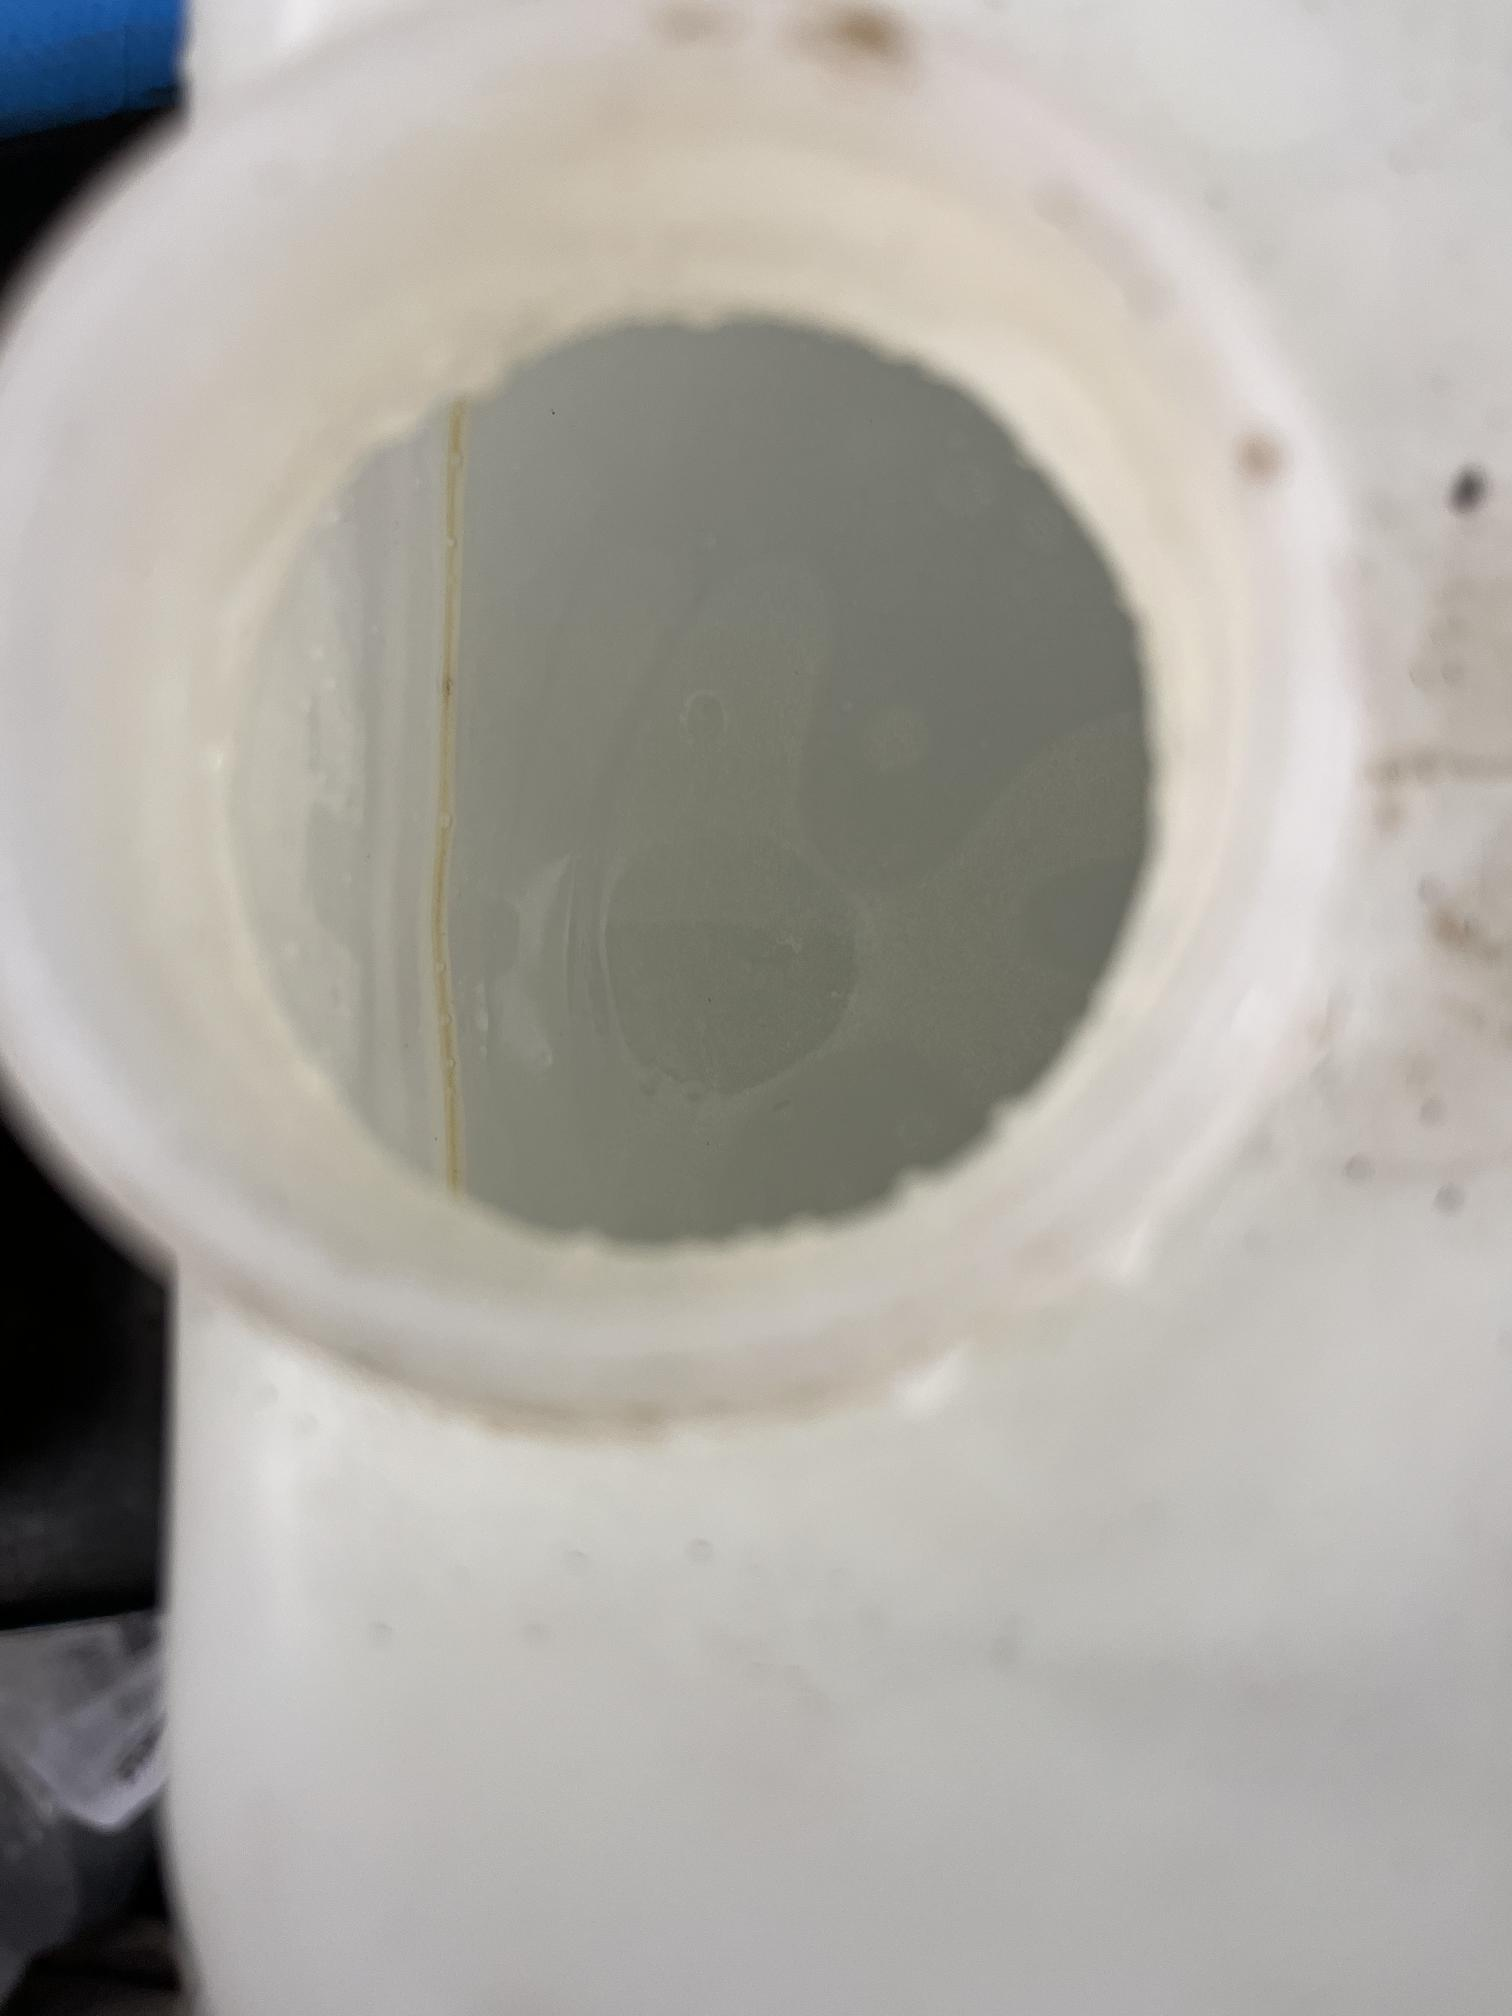Borda de Oleo - - 20ml: (430, 403, 464, 1191)
Presenca de Oleo - - 20ml: (159, 232, 1269, 1329)
